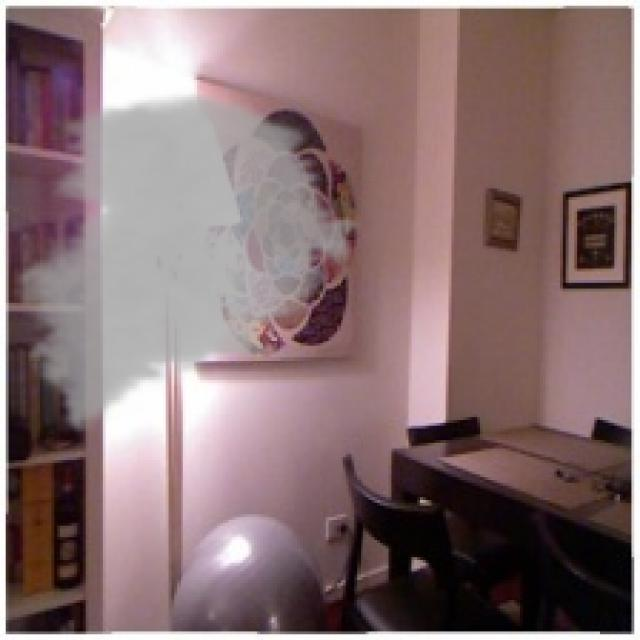Smoke: (3, 88, 366, 434)
